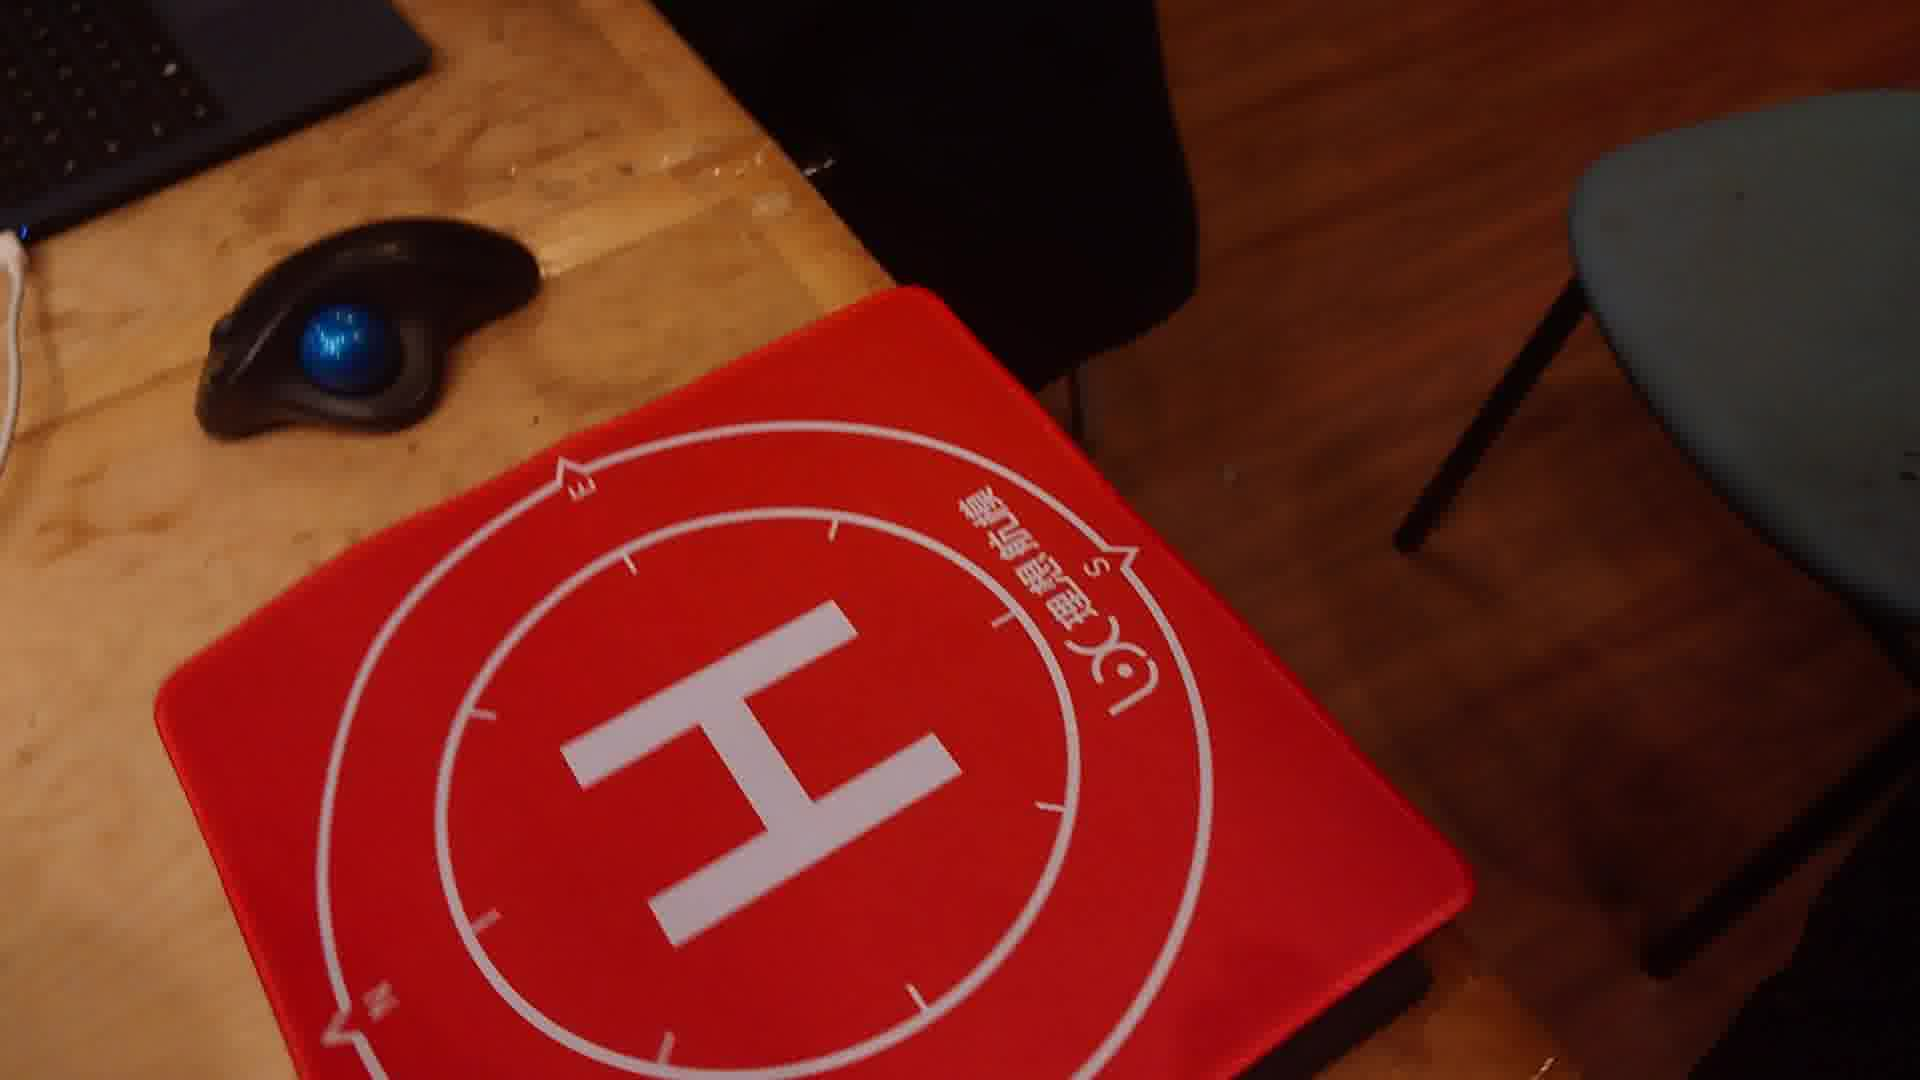H: (563, 596, 969, 953)
